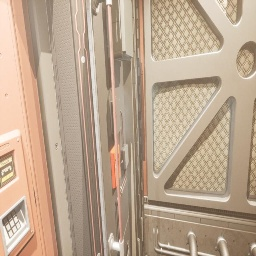FireAlarm ,: (110, 144, 121, 189)
